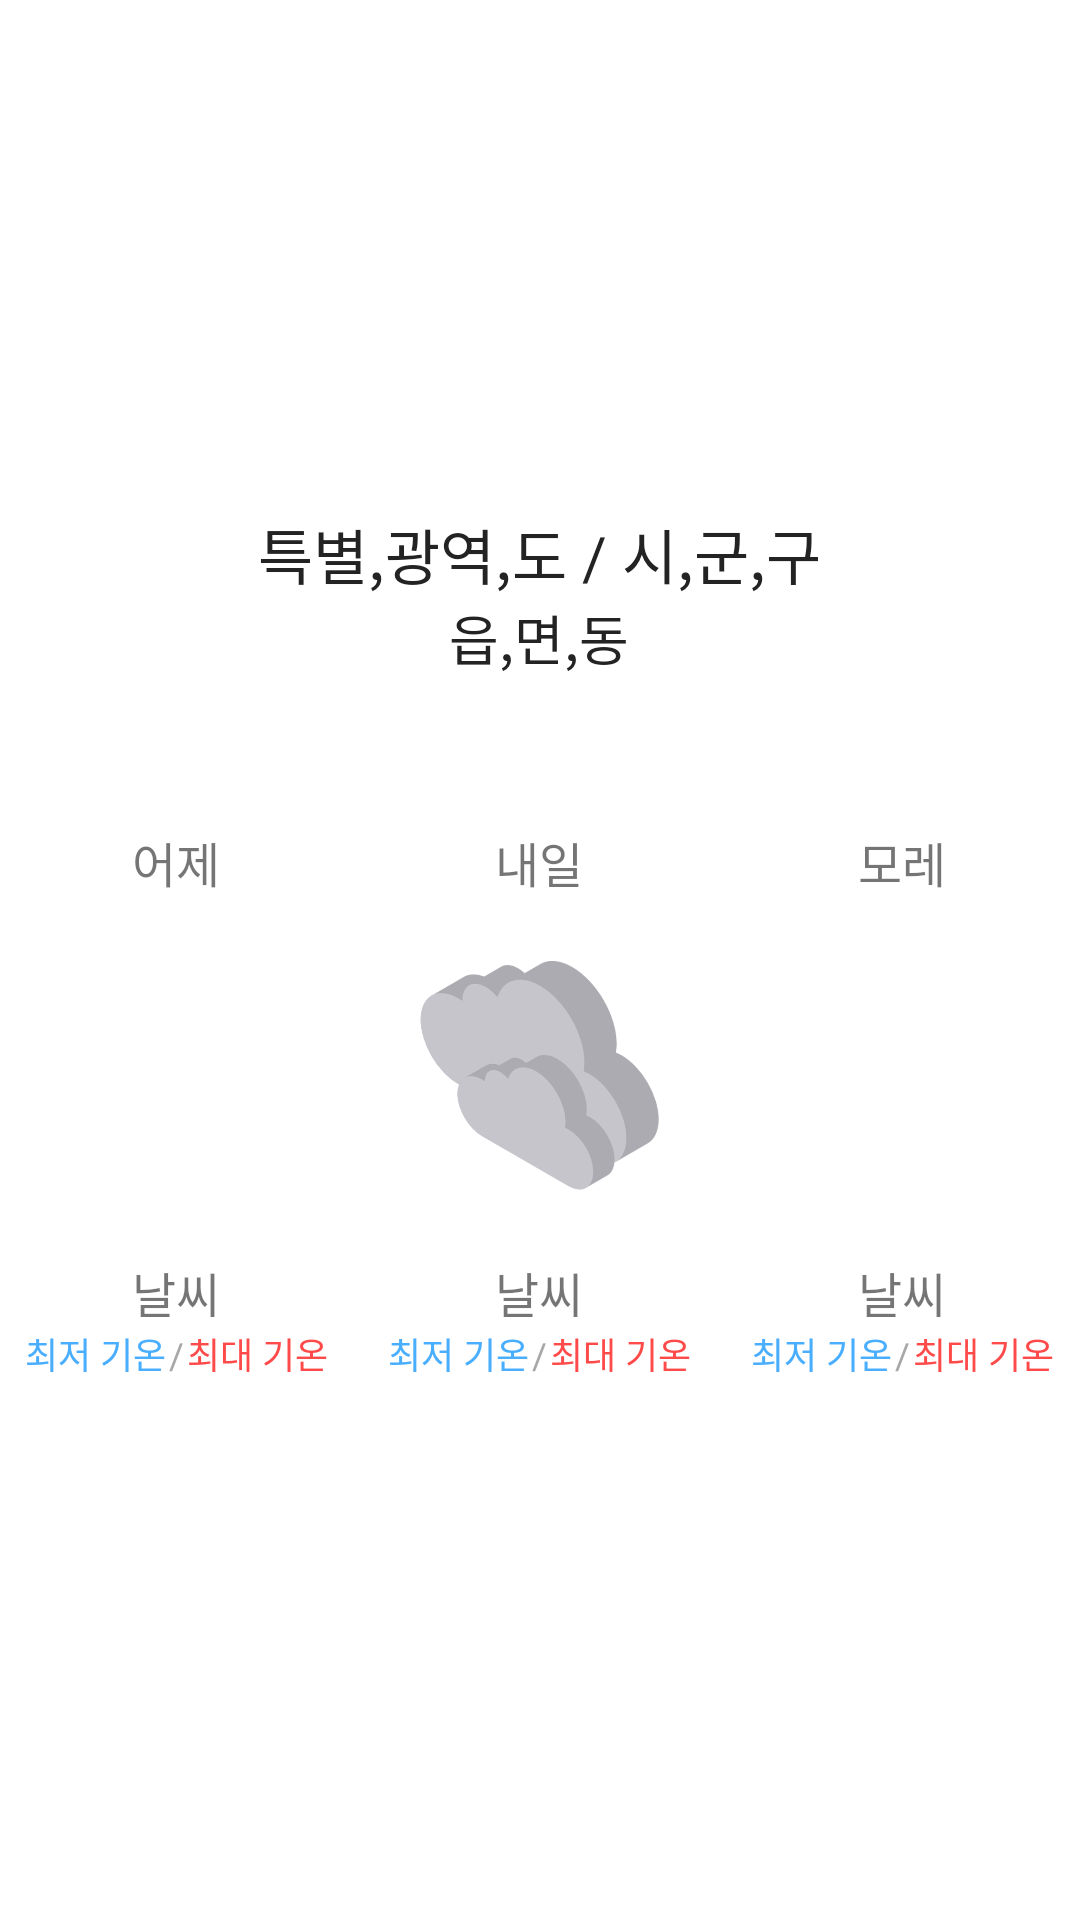

Icon bounding boxes for this 1080 × 1920 phone screenshot, format [x1, y1, x2, y2]:
weather cloudy: [420, 961, 659, 1190]
